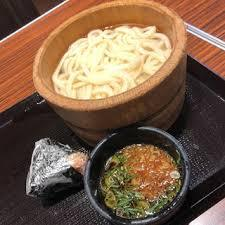kamaage: (32, 2, 182, 108)
